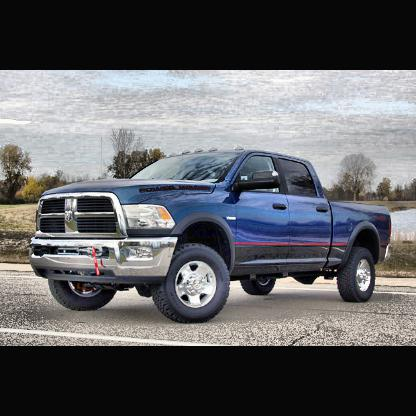Dodge Ram Pickup 3500 Crew Cab 2010: (31, 147, 393, 326)
